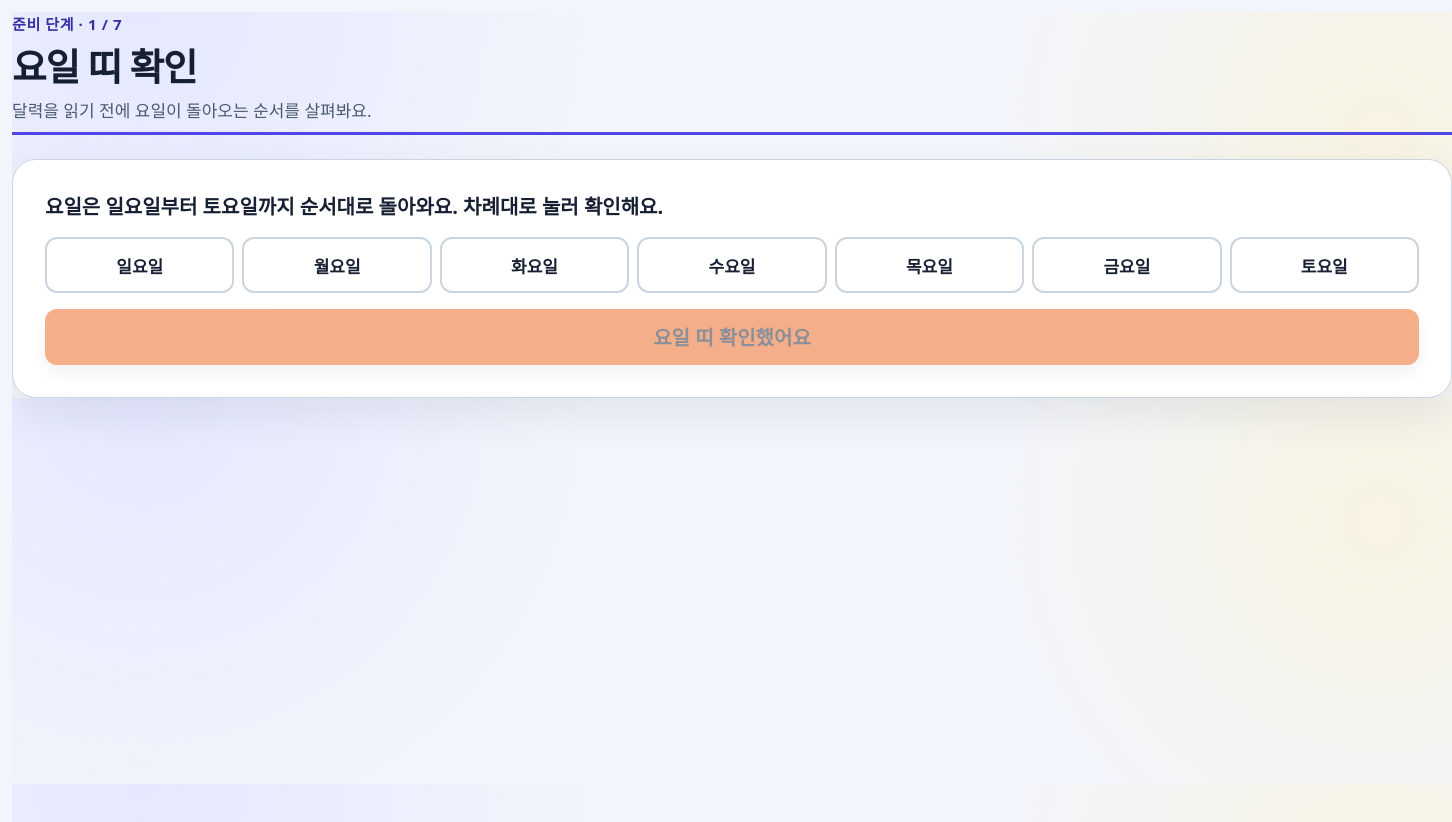
요일 띠 단계 › 순서가 틀리면 안내하고 진행되지 않는다
Click the button "월요일".
click(337, 265)  # box left=242, top=237, right=432, bottom=293
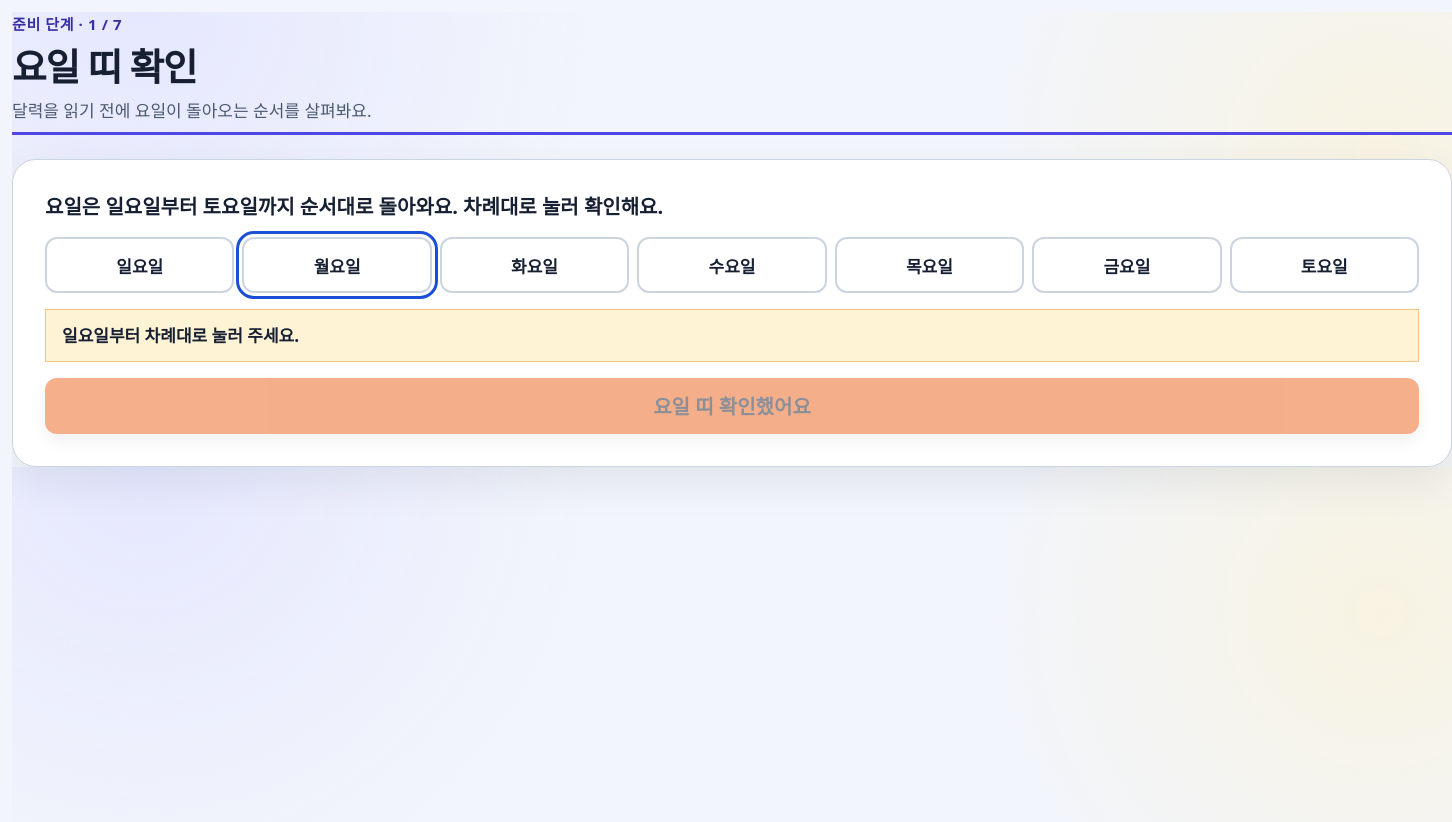
Check: the button "요일 띠 확인했어요" is disabled, box left=45, top=378, right=1419, bottom=434
Check: the text "일요일부터 차례대로 눌러 주세요." is shown, box left=45, top=309, right=1419, bottom=362
